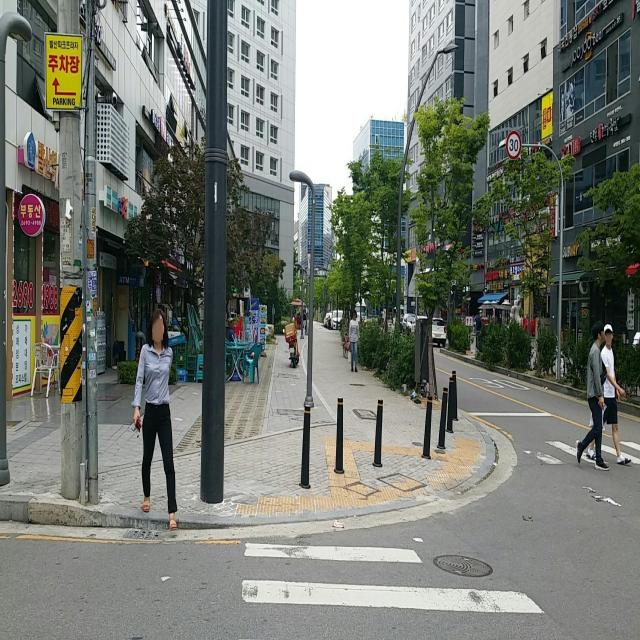횡단보도: (240, 539, 546, 617), (518, 438, 640, 470)
